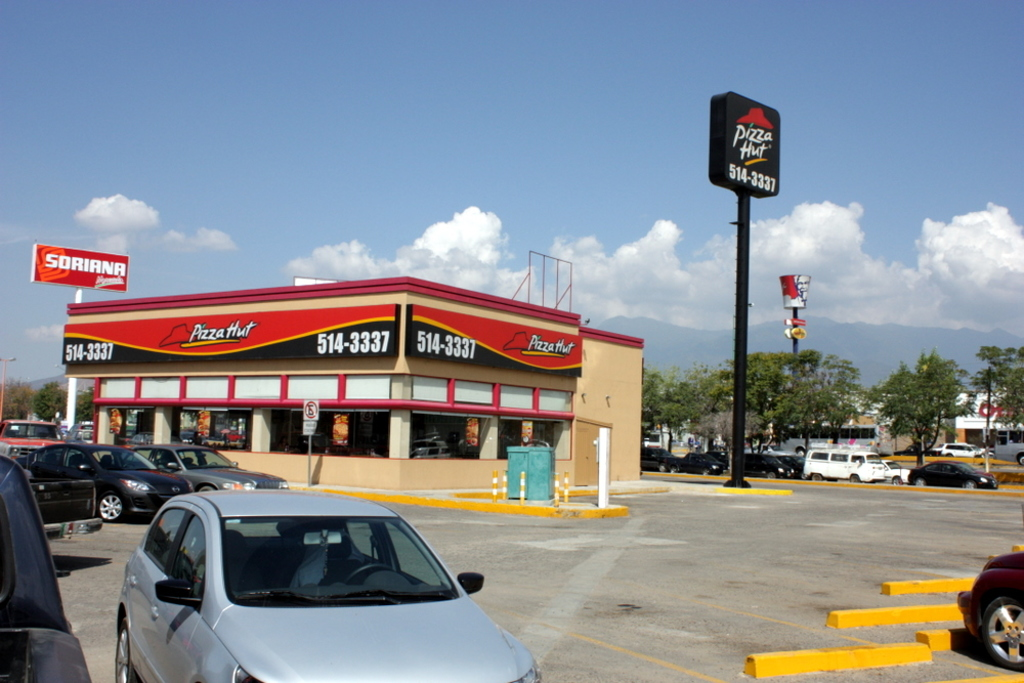cars: (107, 469, 526, 677), (0, 451, 88, 682), (638, 445, 998, 491), (27, 431, 194, 522), (133, 438, 289, 493), (952, 550, 1023, 668), (0, 418, 63, 448), (941, 440, 985, 459)
